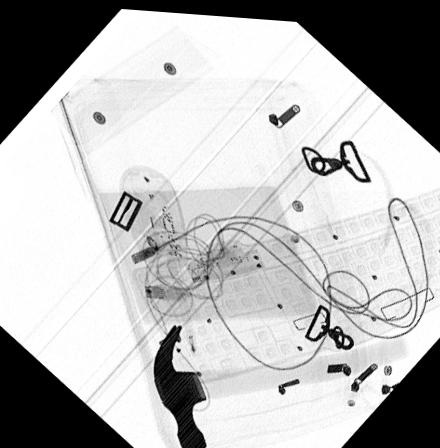Hammer: (151, 321, 409, 448)
